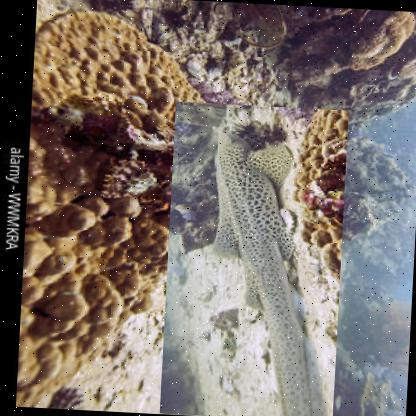zebra_shark: (158, 100, 349, 415)
